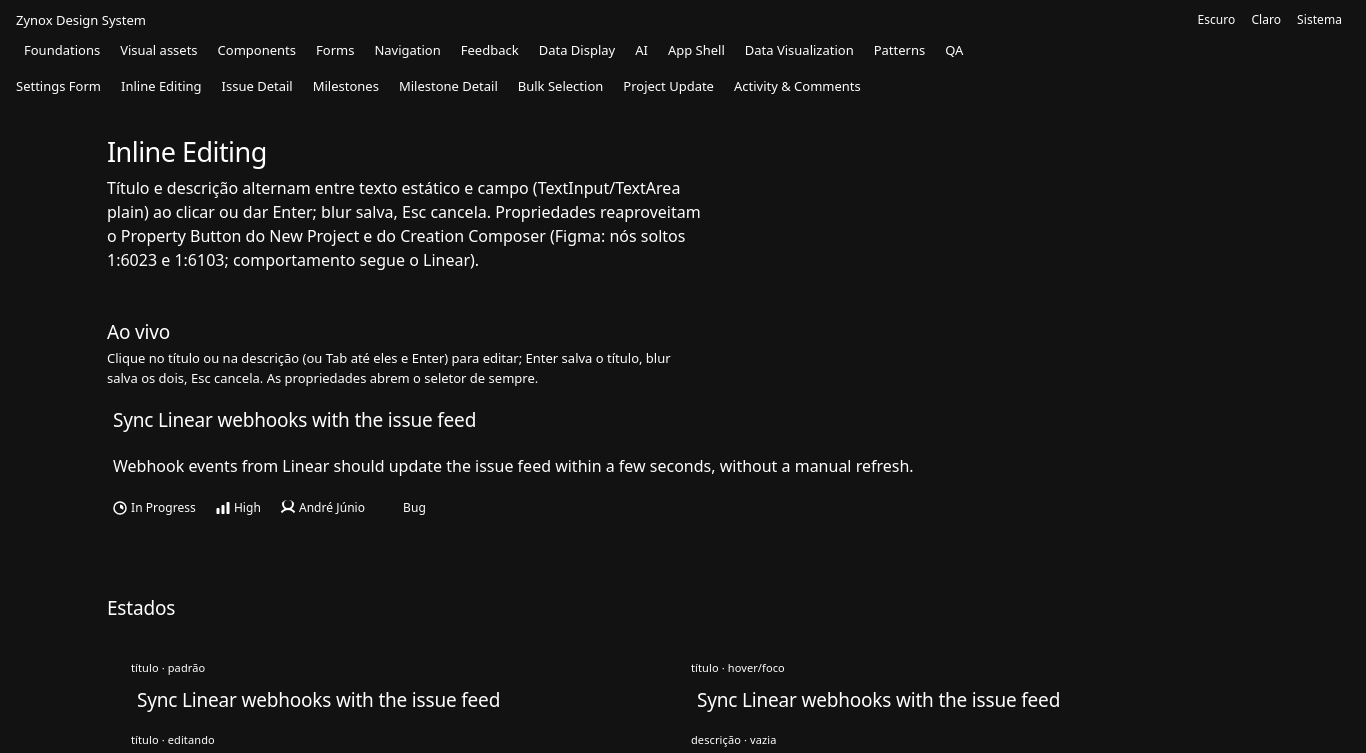
Test: Inline Editing: título › Enter salva e devolve o foco ao texto estático
The image size is (1366, 753).
Click the button with aria-label "Edit title:" at coordinates (295, 420), box [107,404,1259,436]
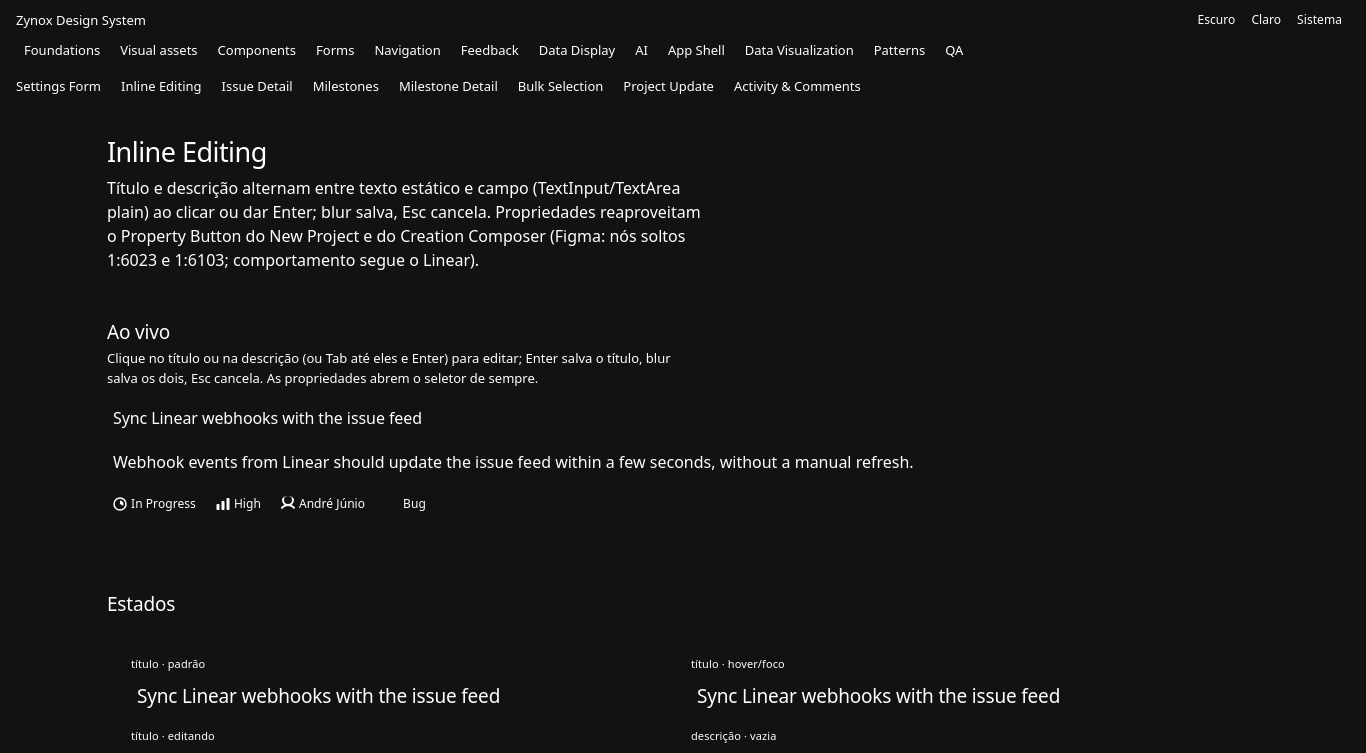
Replace the text in the field named "Title" below "Ao vivo" with "New title" at coordinates (683, 418), box [107,404,1259,432]
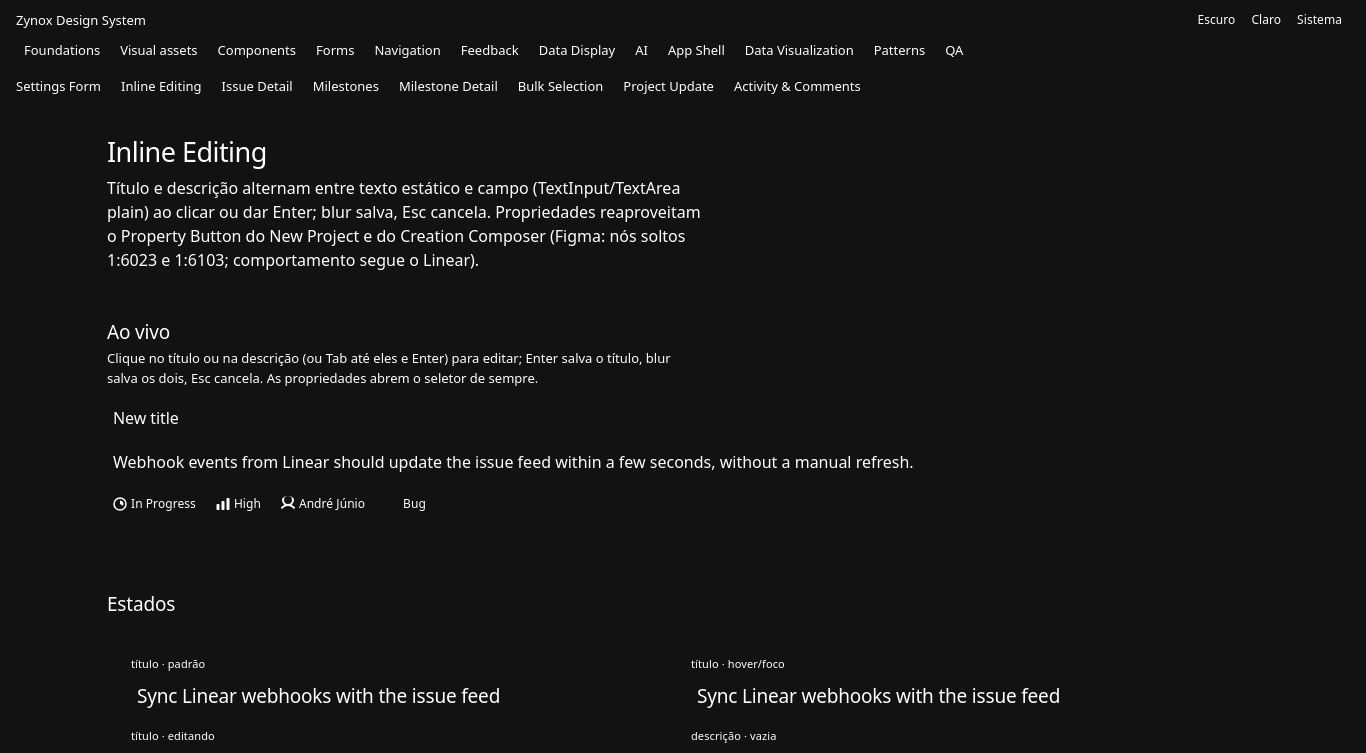
Press Enter
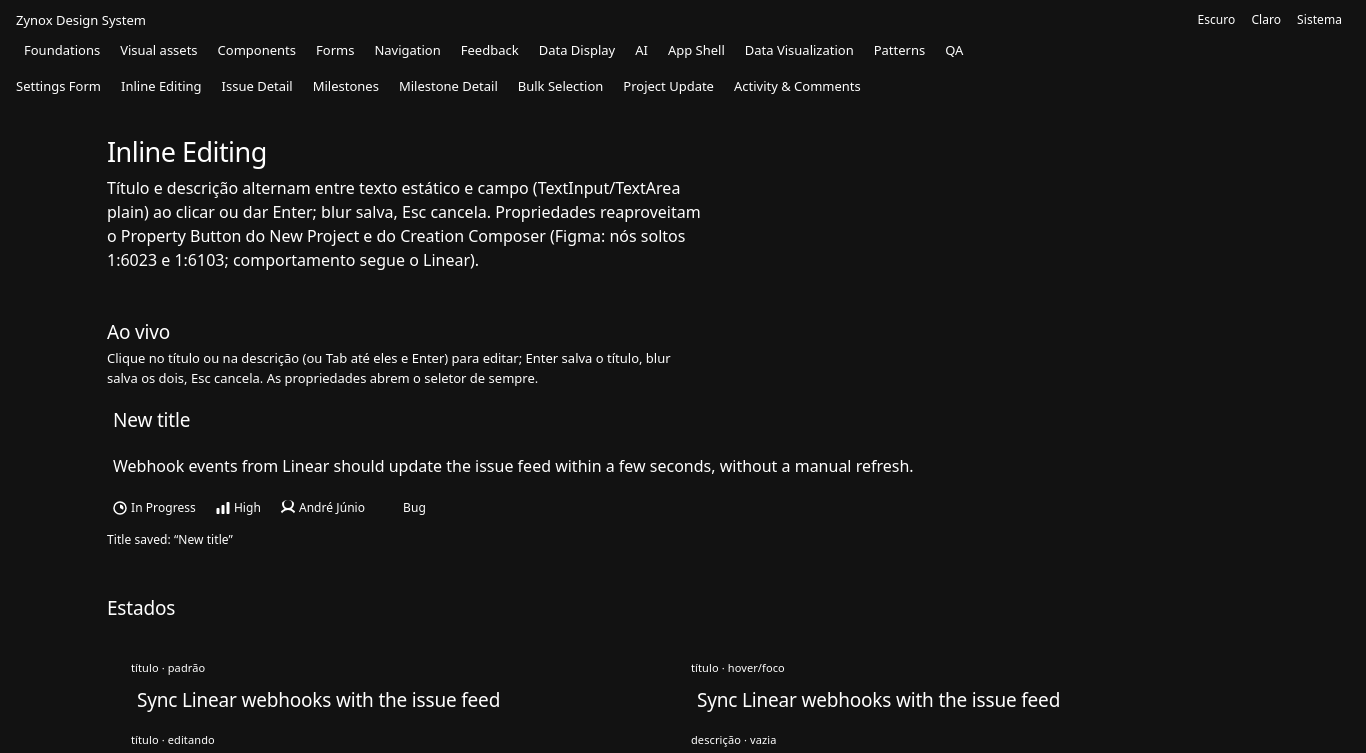
expect the button with aria-label "Edit title: New title" is shown: met, box [107,404,1259,436]
expect the text "Title saved: “New title”" is shown: met, box [107,531,233,548]
